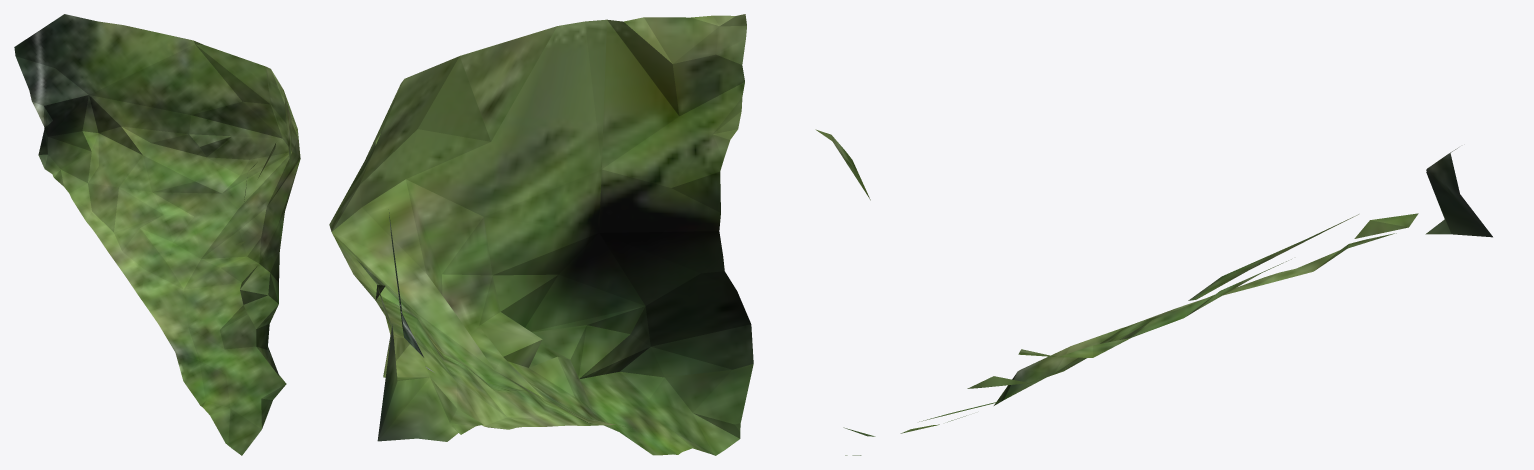
3 views of the same model, side by side, from view 1: azimuth 30°, elevation 25°; view 2: azimuth 150°, elevation 25°; view 3: azimuth 270°, elevation 25° (orthographic). The views are drawn at different scales.
Size of the model in its own units: 11.95 by 19.88 by 30.07.
Materials: 1 (1 with a texture image).
